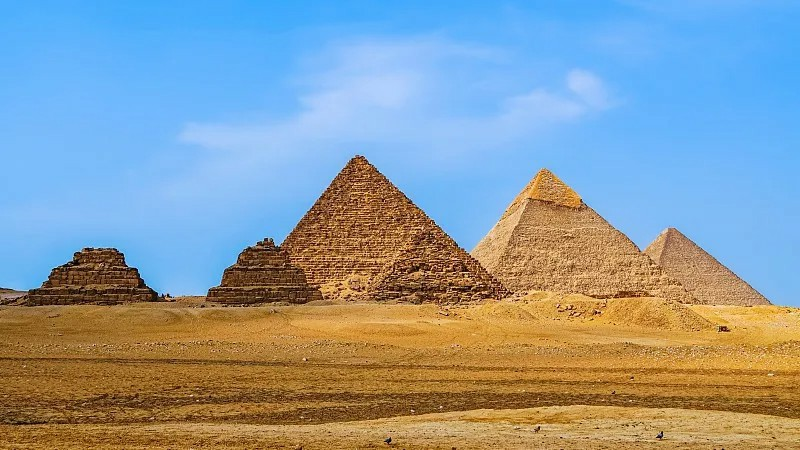Pyramid: (281, 154, 513, 296), (471, 169, 701, 303), (645, 226, 770, 305), (367, 230, 498, 303), (26, 246, 159, 304), (206, 238, 323, 302)
